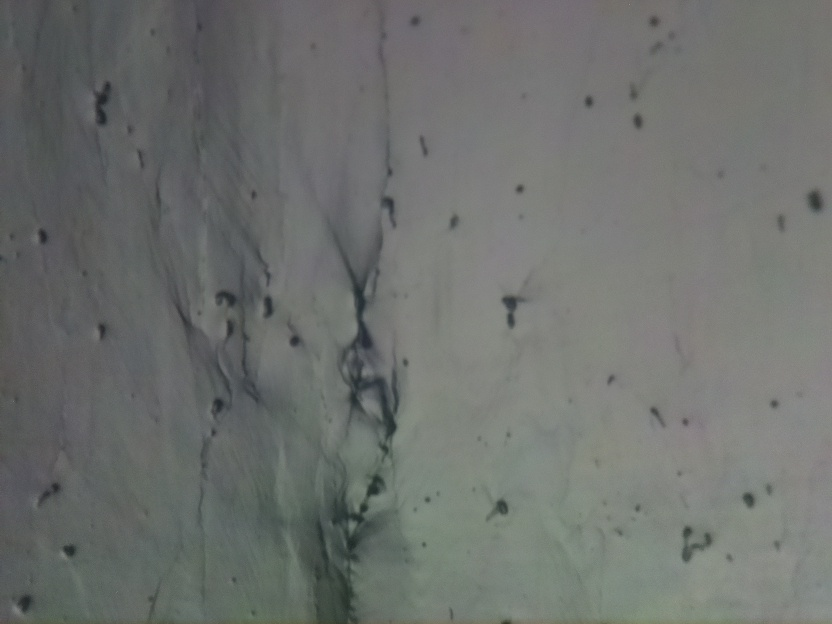crack: (338, 217, 407, 612)
